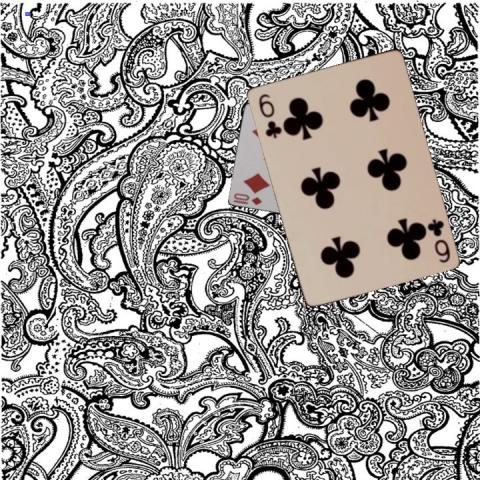10d: (231, 190, 263, 206)
6c: (255, 90, 282, 139), (424, 215, 451, 264)
